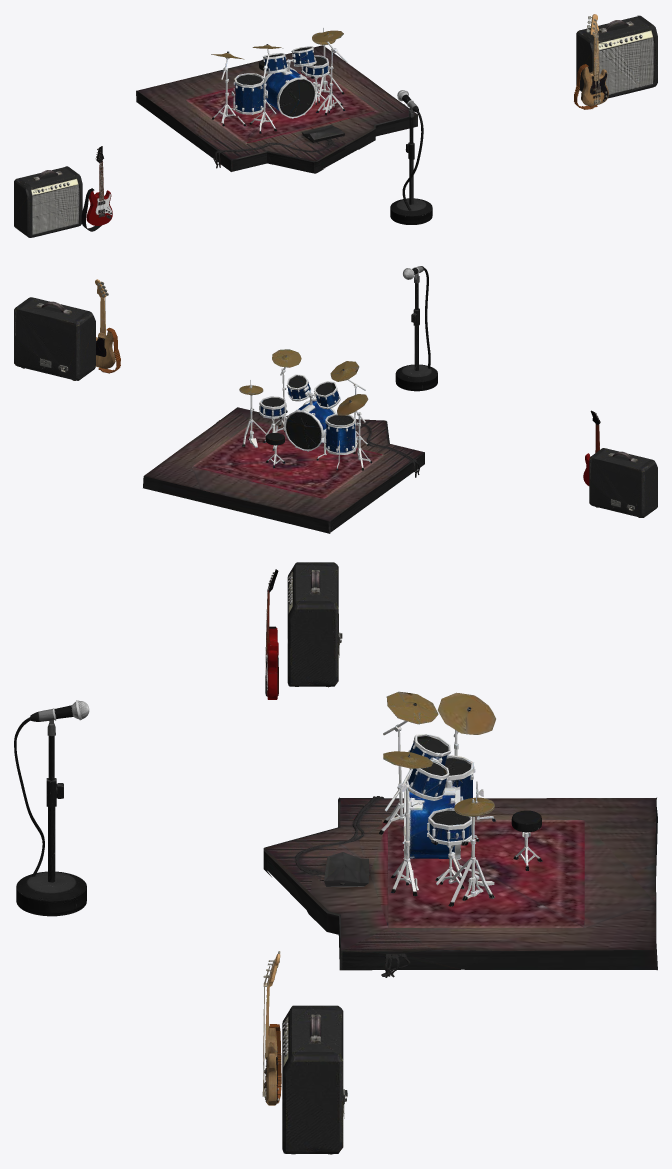
Rendered from stage-Cbiimrky.glb.
3 views of the same model, one above another, from view 1: azimuth 30°, elevation 25°; view 2: azimuth 150°, elevation 25°; view 3: azimuth 270°, elevation 25° (orthographic). The views are drawn at different scales.
Visible parts, largest first — view 1: prop-riser, prop-drums, prop-amp-bass, prop-amp-guitar, prop-mic, rest-bass, rest-guitar; view 2: prop-riser, prop-drums, prop-amp-bass, prop-amp-guitar, prop-mic, rest-bass; view 3: prop-riser, prop-drums, prop-amp-bass, prop-amp-guitar, prop-mic, rest-bass, rest-guitar.
Boxes of the visible parts, x1=… form: prop-riser: x1=136, y1=45, x2=417, y2=173; prop-drums: x1=211, y1=27, x2=347, y2=133; prop-amp-bass: x1=576, y1=15, x2=657, y2=98; prop-amp-guitar: x1=14, y1=166, x2=82, y2=237; prop-mic: x1=390, y1=90, x2=432, y2=224; rest-bass: x1=574, y1=14, x2=608, y2=109; rest-guitar: x1=81, y1=146, x2=112, y2=231; prop-riser: x1=143, y1=407, x2=424, y2=533; prop-drums: x1=239, y1=349, x2=372, y2=470; prop-amp-bass: x1=14, y1=297, x2=95, y2=380; prop-amp-guitar: x1=589, y1=448, x2=657, y2=517; prop-mic: x1=395, y1=266, x2=437, y2=391; rest-bass: x1=95, y1=279, x2=120, y2=373; prop-riser: x1=263, y1=796, x2=657, y2=977; prop-drums: x1=379, y1=691, x2=542, y2=906; prop-amp-bass: x1=282, y1=1005, x2=347, y2=1154; prop-amp-guitar: x1=287, y1=562, x2=342, y2=687; prop-mic: x1=14, y1=700, x2=89, y2=916; rest-bass: x1=262, y1=951, x2=281, y2=1105; rest-guitar: x1=265, y1=569, x2=278, y2=699.
Size of the model in its own units: 7.08 by 1.29 by 3.76.
7 materials, 7 textured.
